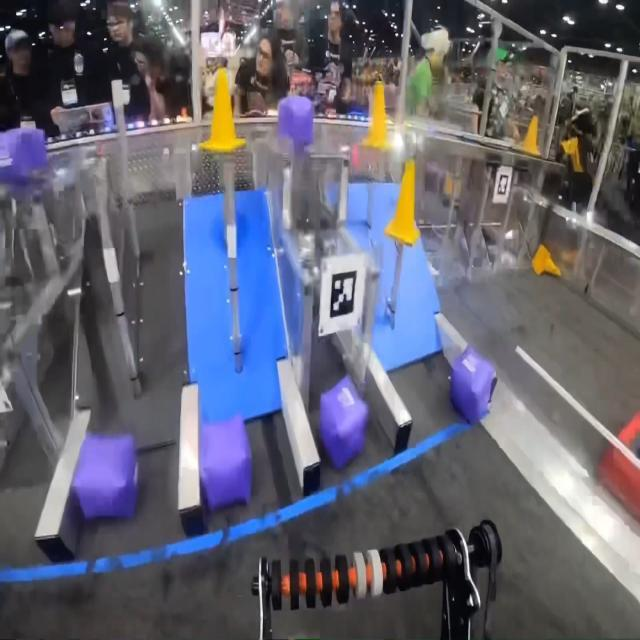robot: (595, 410, 640, 522)
